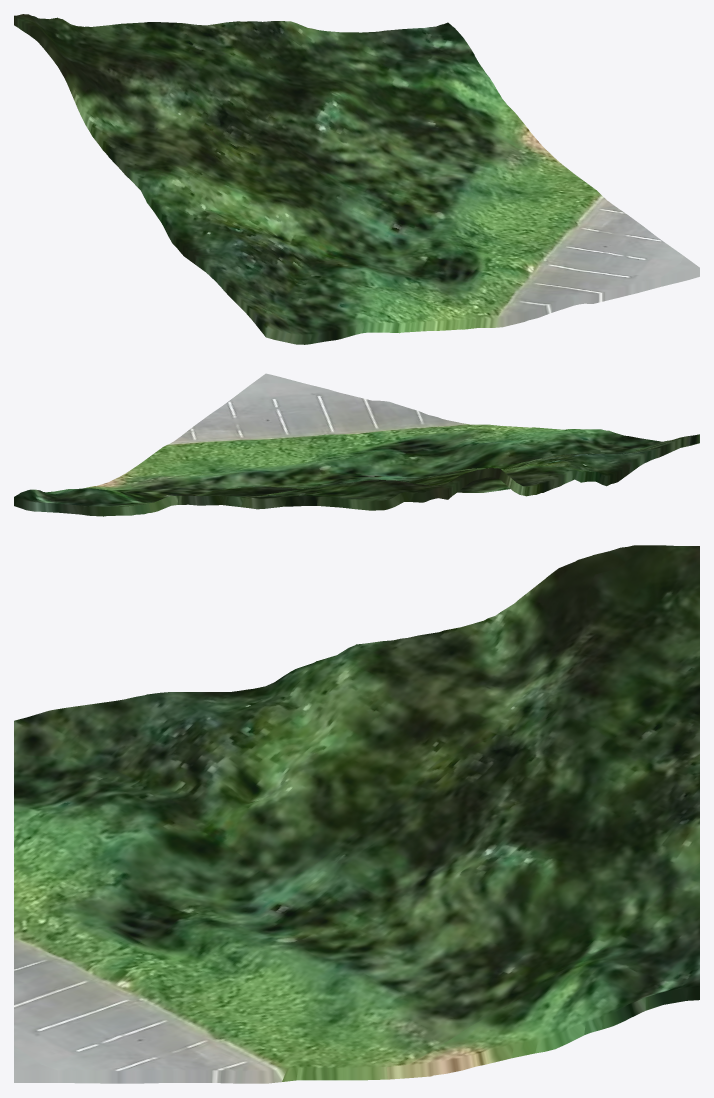
File: z20-167566-405177-h0-yup-uvflip-v3-world.glb
3 views of the same model, one above another, from view 1: azimuth 30°, elevation 25°; view 2: azimuth 150°, elevation 25°; view 3: azimuth 270°, elevation 25° (orthographic). The views are drawn at different scales.
Bounding box in the file's own units: 30.16 × 12.32 × 30.32.
1 material, 1 textured.
